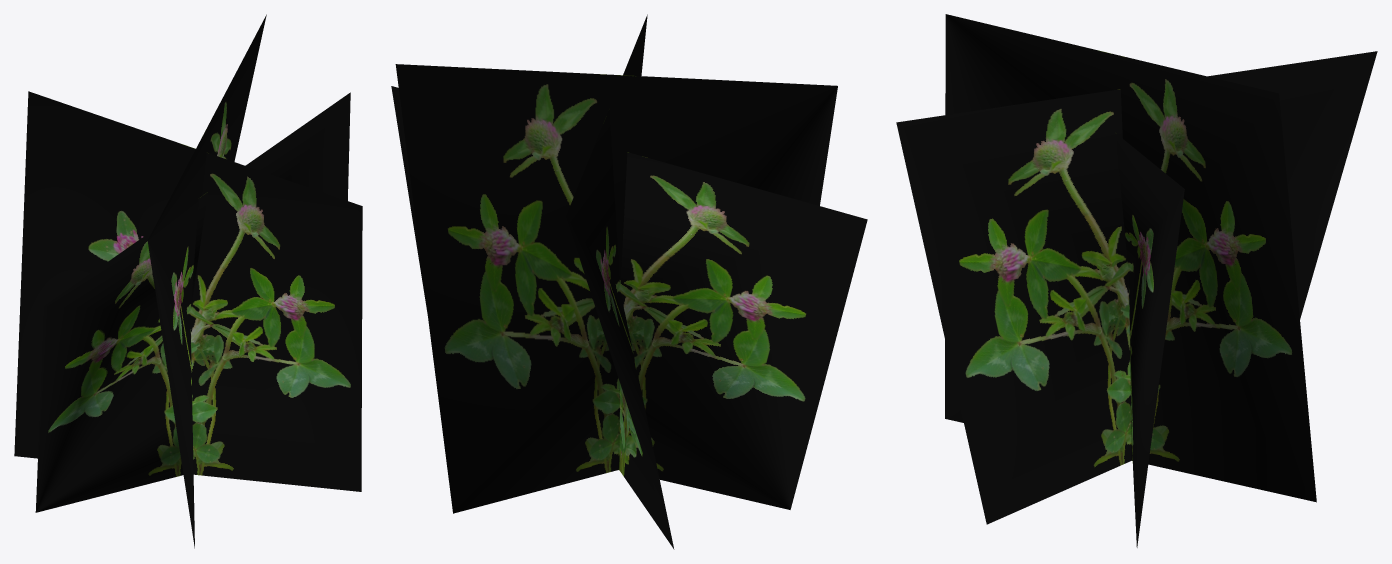
File: obj__flow2.obj
3 renders of one model, left to right at view 1: azimuth 30°, elevation 25°; view 2: azimuth 150°, elevation 25°; view 3: azimuth 270°, elevation 25°, orthographic. The views are drawn at different scales.
Visible parts, largest first — view 1: flow2.tga; view 2: flow2.tga; view 3: flow2.tga.
Boxes of the visible parts, x1,y1,x2,y2 form: flow2.tga: (14, 14, 362, 548); flow2.tga: (391, 14, 867, 549); flow2.tga: (896, 14, 1377, 547).
Bounding box in the file's own units: 119 × 117 × 114.
1 material, 1 textured.
